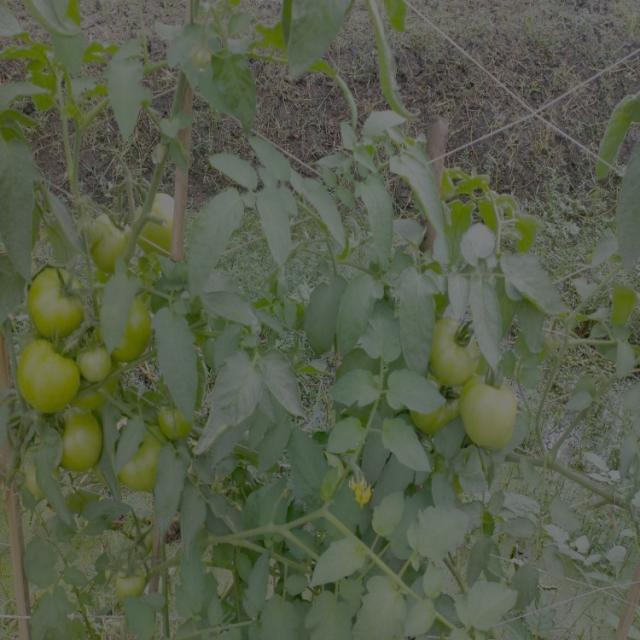tomato: (461, 372, 530, 454), (24, 266, 87, 338), (19, 343, 80, 413), (433, 308, 485, 380), (104, 289, 156, 358), (82, 210, 138, 272), (59, 409, 110, 472), (140, 194, 191, 253), (409, 382, 463, 434), (118, 438, 166, 489), (110, 554, 153, 596), (18, 452, 51, 506), (158, 392, 195, 440), (80, 344, 115, 384), (124, 521, 160, 555)
